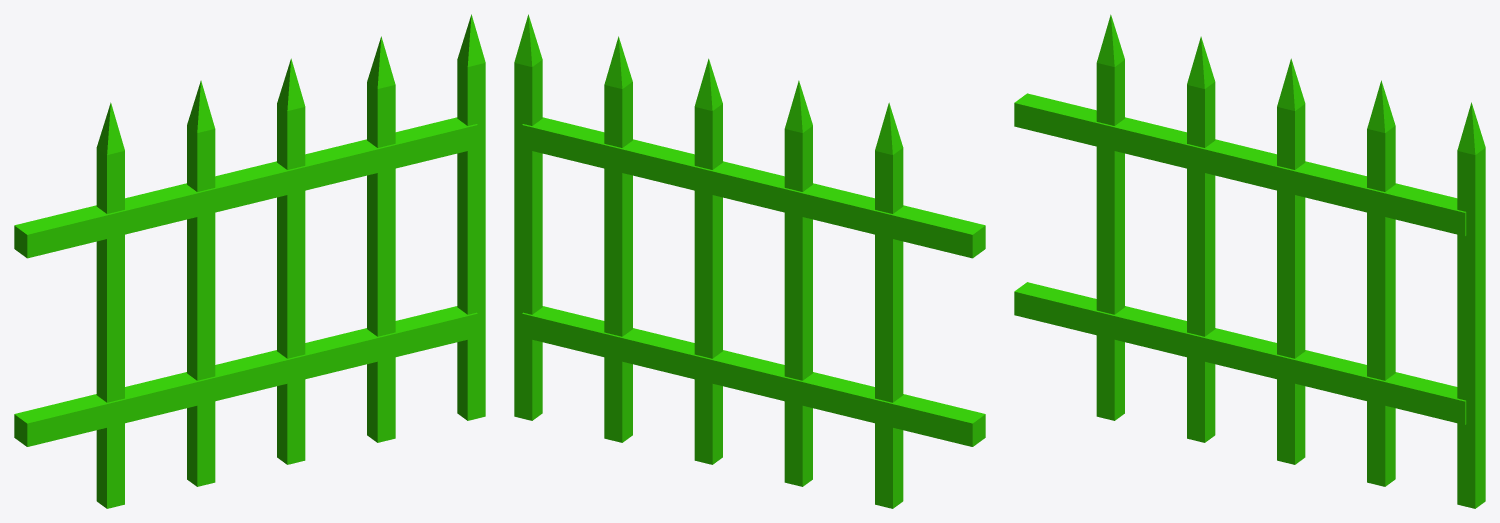
File: fence1_03.fbx
3 renders of one model, left to right at view 1: azimuth 30°, elevation 25°; view 2: azimuth 150°, elevation 25°; view 3: azimuth 330°, elevation 25°, orthographic.
Parts seen in each view (by area): view 1: fence1_03; view 2: fence1_03; view 3: fence1_03.
Boxes of the visible parts, box(x1,y1,x2,y2) form: fence1_03: box(14, 14, 485, 508); fence1_03: box(514, 14, 985, 508); fence1_03: box(1014, 14, 1485, 508).
Size of the model in its own units: 102 by 85 by 5.
